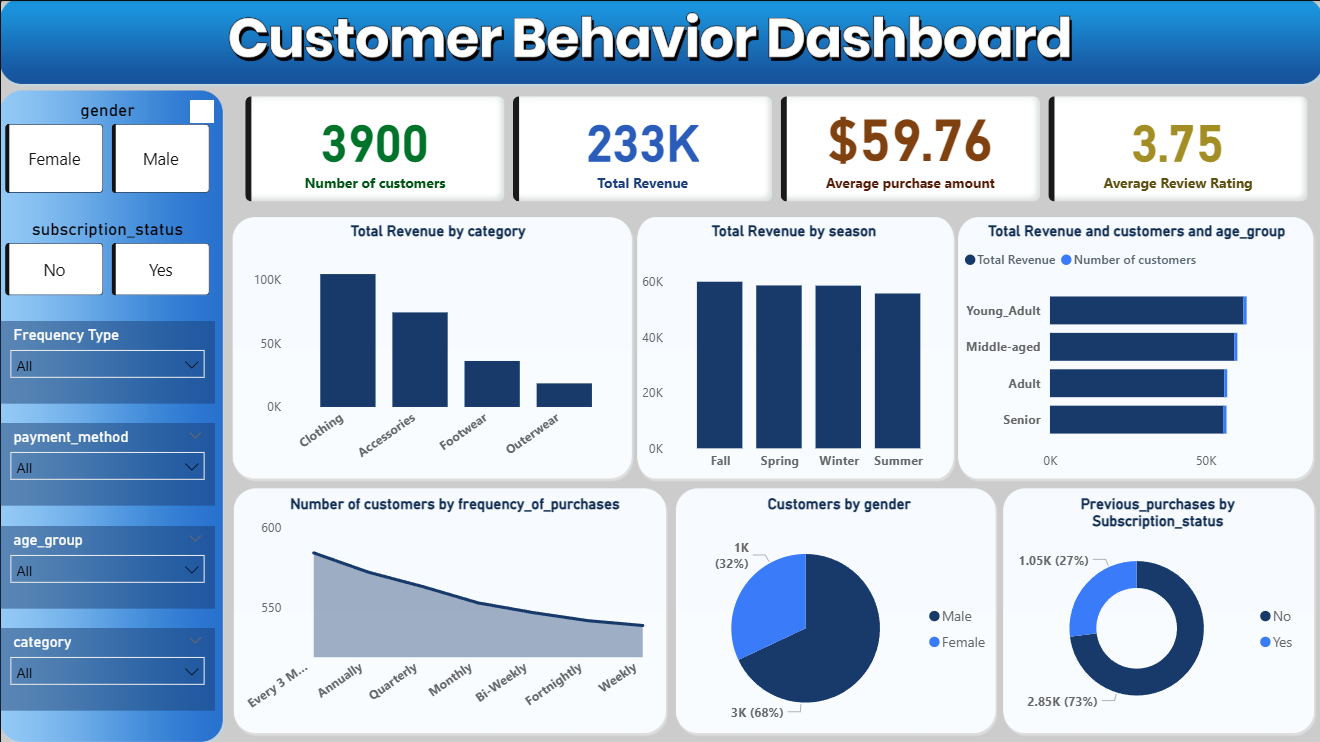

Layout of this report page (visuals, bound fields, positions):
{"tool":"powerbi","page":{"name":"Dashboard","canvas":[1280,720],"ordinal":0},"visuals":[{"type":"cardVisual","fields":{"Data":["public customer.Number of customers","public customer.Total Revenue","public customer.Average purchase amount","public customer.Average Review Rating"]},"box":[232,88,1040,112],"z":0},{"type":"clusteredColumnChart","fields":{"Category":["public customer.category"],"Y":["public customer.Total Revenue"]},"box":[240,216,368,248],"z":2000},{"type":"clusteredColumnChart","fields":{"Category":["public customer.season"],"Y":["public customer.Total Revenue"]},"box":[616,216,304,248],"z":3000},{"type":"barChart","title":"Total Revenue and customers and age_group","fields":{"Y":["public customer.Total Revenue","public customer.Number of customers"],"Category":["public customer.age_group"]},"box":[928,216,344,248],"z":4000},{"type":"pieChart","title":"Customers by gender","fields":{"Y":["public customer.Number of customers"],"Category":["public customer.gender"]},"box":[656,480,312,240],"z":5000},{"type":"donutChart","title":"Previous_purchases by Subscription_status","fields":{"Category":["public customer.subscription_status"],"Y":["CountNonNull(public customer.previous_purchases)"]},"box":[976,480,288,224],"z":6000},{"type":"areaChart","fields":{"Category":["public customer.frequency_of_purchases"],"Y":["public customer.Number of customers"]},"box":[232,480,416,224],"z":7000},{"type":"advancedSlicerVisual","fields":{"Values":["public customer.gender"]},"box":[0,96,208,96],"z":8000},{"type":"slicer","fields":{"Values":["public customer.Frequency Type"]},"box":[0,310.4,208,80],"z":9000},{"type":"advancedSlicerVisual","fields":{"Values":["public customer.subscription_status"]},"box":[0,211.2,208,80],"z":10000},{"type":"slicer","fields":{"Values":["public customer.payment_method"]},"box":[0,409.6,208,80],"z":11000},{"type":"slicer","fields":{"Values":["public customer.age_group"]},"box":[0,508.8,208,80],"z":12000},{"type":"slicer","fields":{"Values":["public customer.category"]},"box":[0,608,208,80],"z":12001}]}

Visuals, with their boxes in screenshot pixels (x1, y1, x2, y2), scaled from the page's 1280x720 canvas onto the 1320x742 screenshot:
cardVisual - public customer.Number of customers x public customer.Total Revenue: crop(239, 91, 1312, 206)
clusteredColumnChart - public customer.category x public customer.Total Revenue: crop(248, 223, 627, 478)
clusteredColumnChart - public customer.season x public customer.Total Revenue: crop(635, 223, 949, 478)
"Total Revenue and customers and age_group" barChart: crop(957, 223, 1312, 478)
"Customers by gender" pieChart: crop(676, 495, 998, 741)
"Previous_purchases by Subscription_status" donutChart: crop(1006, 495, 1304, 726)
areaChart - public customer.frequency_of_purchases x public customer.Number of customers: crop(239, 495, 668, 726)
advancedSlicerVisual - public customer.gender: crop(0, 99, 214, 198)
slicer - public customer.Frequency Type: crop(0, 320, 214, 402)
advancedSlicerVisual - public customer.subscription_status: crop(0, 218, 214, 300)
slicer - public customer.payment_method: crop(0, 422, 214, 505)
slicer - public customer.age_group: crop(0, 524, 214, 607)
slicer - public customer.category: crop(0, 627, 214, 709)
